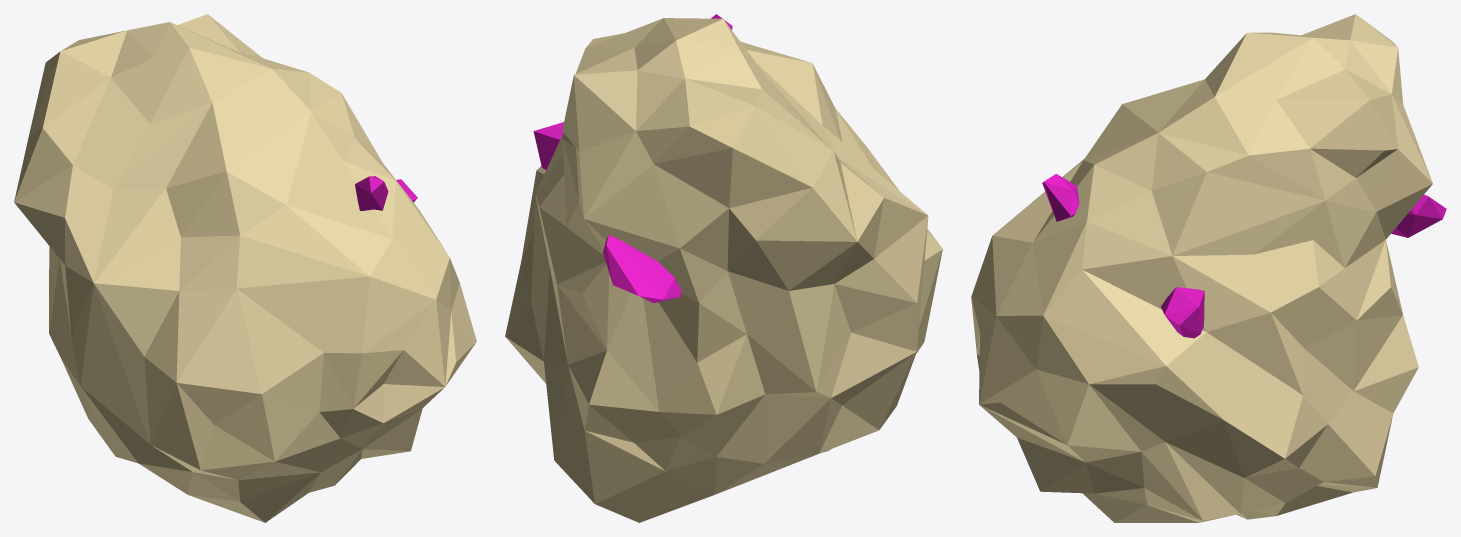
Rendered from CrystalOre (36).fbx.
3 views of the same model, side by side, from view 1: azimuth 30°, elevation 25°; view 2: azimuth 150°, elevation 25°; view 3: azimuth 270°, elevation 25° (orthographic). The views are drawn at different scales.
Parts seen in each view (by area): view 1: Asteroid256; view 2: Asteroid256; view 3: Asteroid256.
Boxes of the visible parts, x1,y1,x2,y2 form: Asteroid256: [14, 14, 476, 522]; Asteroid256: [505, 14, 942, 522]; Asteroid256: [971, 14, 1446, 522].
Size of the model in its own units: 462 by 541 by 502.
